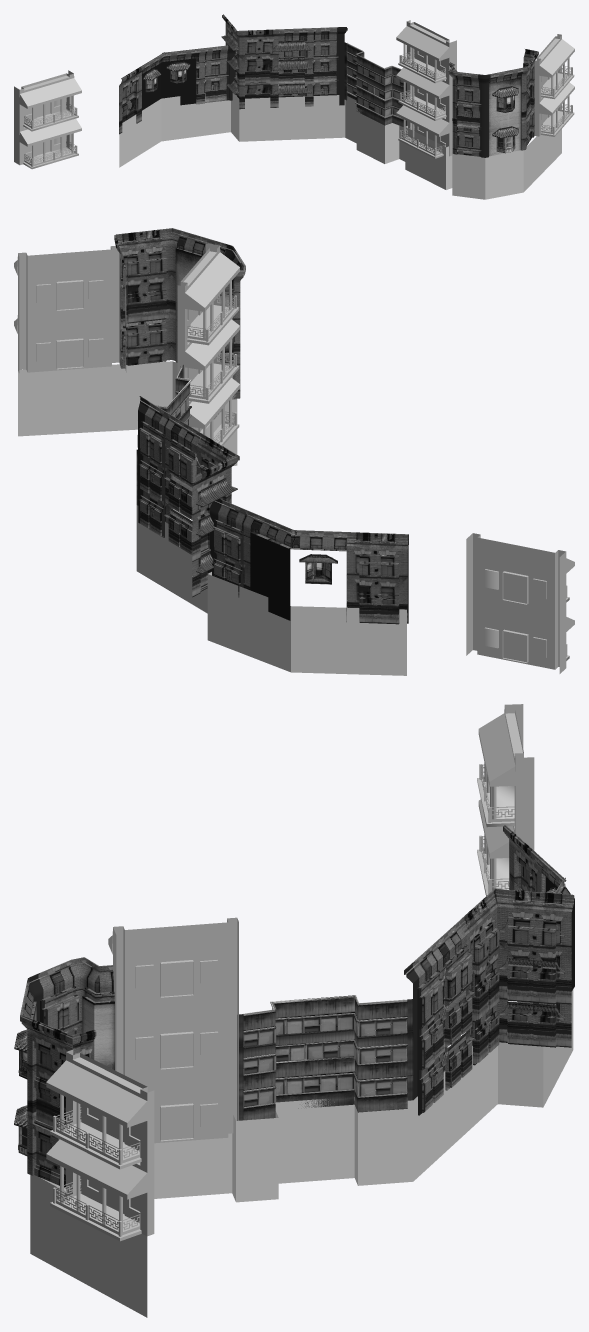
The model's file is chiantown_block_4.fbx.
The picture shows the model from 3 angles, top to bottom: view 1: azimuth 30°, elevation 25°; view 2: azimuth 150°, elevation 25°; view 3: azimuth 270°, elevation 25°; orthographic projection. The views are drawn at different scales.
Visible parts, largest first — view 1: Plane301, chinatown_building_011, Plane182, Plane255, Plane264, chinatown_building_012, Plane300, Plane269, Plane268; view 2: Plane301, Plane269, Plane264, chinatown_building_011, Plane182, Plane255, Plane268, chinatown_building_012, Plane300; view 3: Plane301, chinatown_building_011, Plane255, Plane300, Plane269, Plane182, Plane264, Plane268.
Part boxes in pixels (x1=…): Plane301: x1=119, y1=93, x2=561, y2=199; chinatown_building_011: x1=221, y1=14, x2=347, y2=109; Plane182: x1=448, y1=49, x2=538, y2=157; Plane255: x1=396, y1=20, x2=456, y2=158; Plane264: x1=14, y1=70, x2=81, y2=169; chinatown_building_012: x1=160, y1=45, x2=235, y2=105; Plane300: x1=344, y1=42, x2=406, y2=126; Plane269: x1=534, y1=34, x2=574, y2=136; Plane268: x1=119, y1=52, x2=164, y2=134; Plane301: x1=18, y1=361, x2=406, y2=675; Plane269: x1=14, y1=246, x2=120, y2=372; Plane264: x1=466, y1=533, x2=574, y2=673; chinatown_building_011: x1=138, y1=396, x2=239, y2=597; Plane182: x1=114, y1=228, x2=245, y2=398; Plane255: x1=177, y1=243, x2=239, y2=445; Plane268: x1=290, y1=530, x2=408, y2=624; chinatown_building_012: x1=209, y1=498, x2=296, y2=620; Plane300: x1=136, y1=365, x2=191, y2=505; Plane301: x1=30, y1=989, x2=573, y2=1317; chinatown_building_011: x1=404, y1=888, x2=574, y2=1115; Plane255: x1=108, y1=917, x2=238, y2=1143; Plane300: x1=237, y1=995, x2=413, y2=1120; Plane269: x1=46, y1=1049, x2=154, y2=1241; Plane182: x1=14, y1=957, x2=114, y2=1188; Plane264: x1=477, y1=704, x2=534, y2=895; Plane268: x1=503, y1=825, x2=574, y2=898.
Size of the model in its own units: 6620 by 2028 by 3706.
